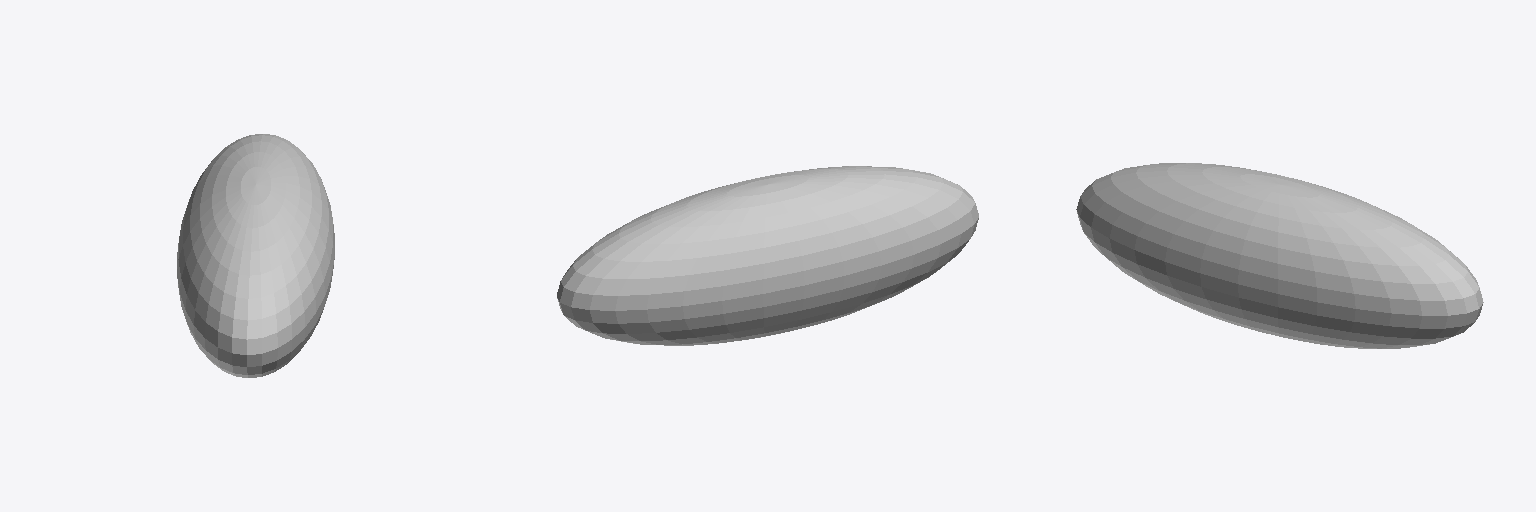
Rendered from shaft.obj.
The picture shows the model from 3 angles: view 1: azimuth 30°, elevation 25°; view 2: azimuth 150°, elevation 25°; view 3: azimuth 270°, elevation 25°; orthographic projection.
Parts seen in each view (by area): view 1: Sphere; view 2: Sphere; view 3: Sphere.
Boxes of the visible parts, x1=… form: Sphere: x1=177, y1=134, x2=334, y2=377; Sphere: x1=557, y1=166, x2=978, y2=345; Sphere: x1=1076, y1=163, x2=1483, y2=348.
Size of the model in its own units: 3.59 by 2 by 5.17.